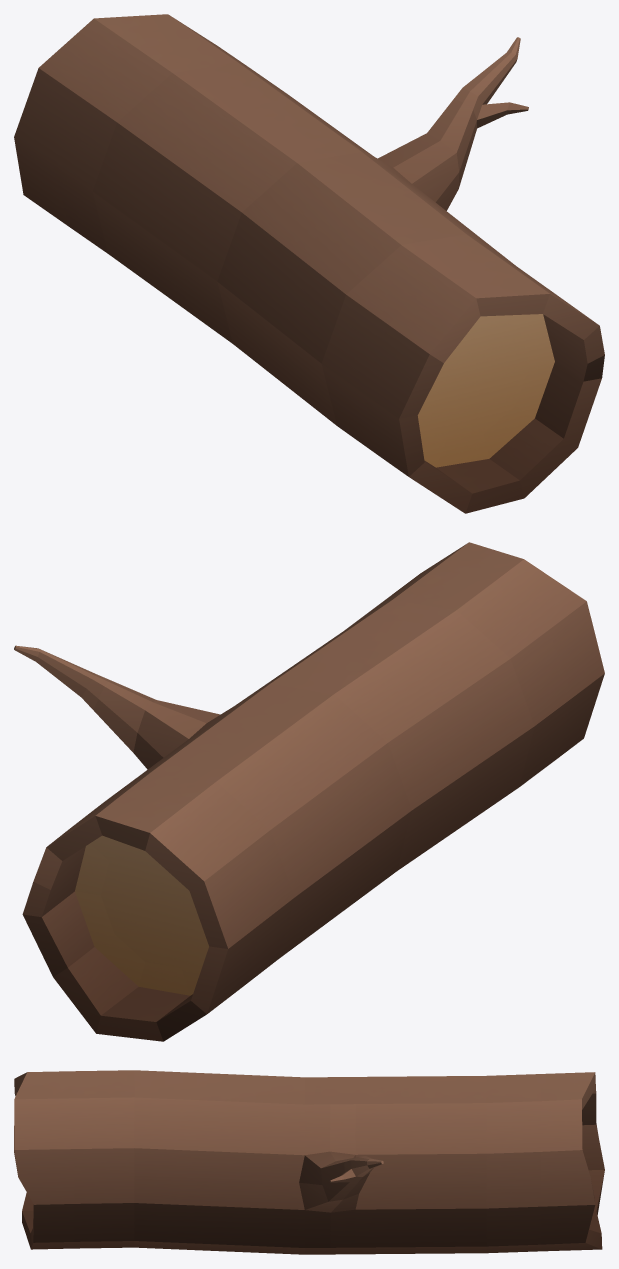
The model's file is kłoda3.fbx.
The picture shows the model from 3 angles, top to bottom: view 1: azimuth 30°, elevation 25°; view 2: azimuth 150°, elevation 25°; view 3: azimuth 270°, elevation 25°; orthographic projection. The views are drawn at different scales.
Visible parts, largest first — view 1: kłoda3; view 2: kłoda3; view 3: kłoda3.
Boxes of the visible parts, x1,y1,x2,y2 form: kłoda3: (14, 14, 604, 513); kłoda3: (14, 542, 604, 1041); kłoda3: (14, 1070, 604, 1254).
Size of the model in its own units: 127 by 78.32 by 240.
